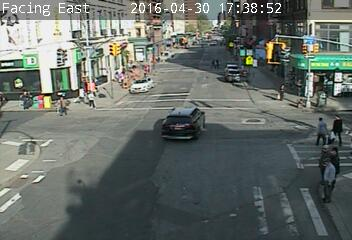neg: (166, 100, 184, 124), (170, 48, 187, 71), (106, 122, 121, 142), (44, 144, 58, 163), (131, 30, 145, 48), (222, 97, 234, 112), (21, 98, 32, 113), (283, 108, 294, 123), (147, 67, 158, 81), (204, 164, 214, 177), (88, 38, 97, 50), (198, 32, 207, 43), (26, 127, 34, 139), (127, 84, 135, 95), (38, 69, 46, 80), (21, 68, 29, 78), (267, 121, 274, 130), (55, 48, 61, 56), (85, 159, 91, 167)
pos: (307, 156, 347, 210), (324, 145, 351, 181), (310, 144, 336, 180), (308, 115, 331, 145), (326, 112, 348, 141), (272, 79, 290, 102), (82, 88, 99, 110), (53, 94, 67, 113), (215, 57, 223, 68), (208, 58, 216, 69)
